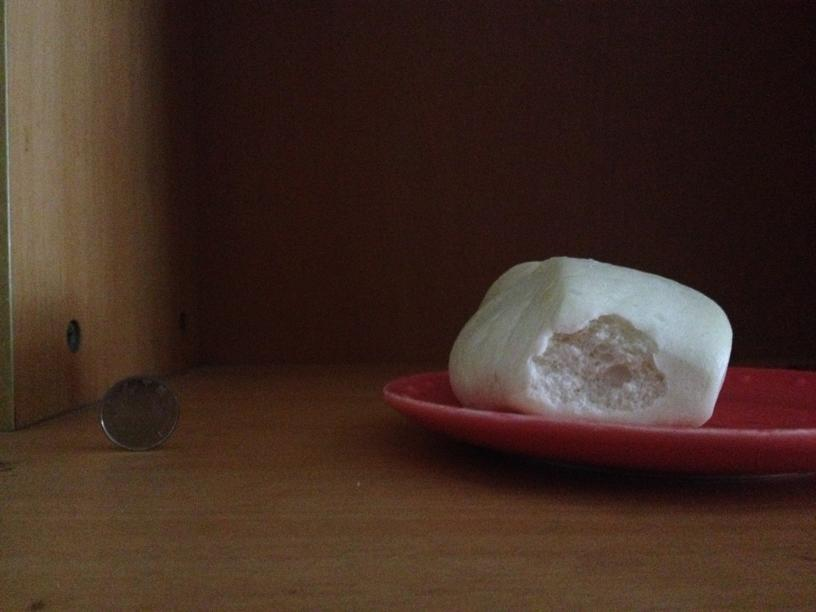bun: (446, 261, 733, 423)
coin: (96, 378, 181, 450)
